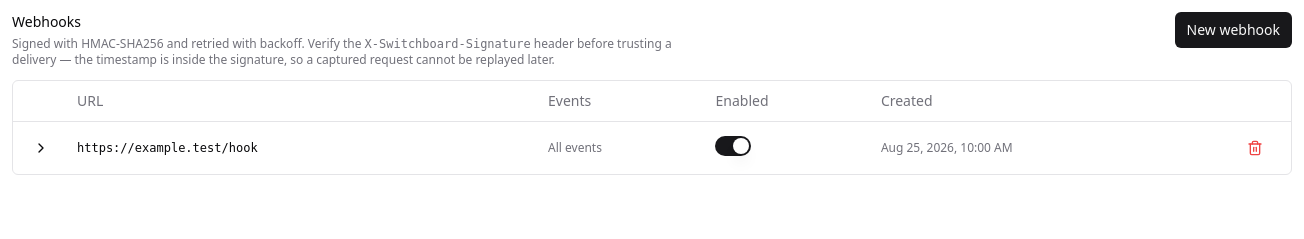
Scenario: WebhooksTab › shows a failed delivery with its status code and error
The width and height of the screenshot is (1304, 239).
Expected: the row with test id "webhook-wh-1" is shown, x1=13 y1=121 x2=1291 y2=174
Click the button with test id "expand-wh-1".
click(41, 148)  # box x1=21 y1=130 x2=61 y2=166
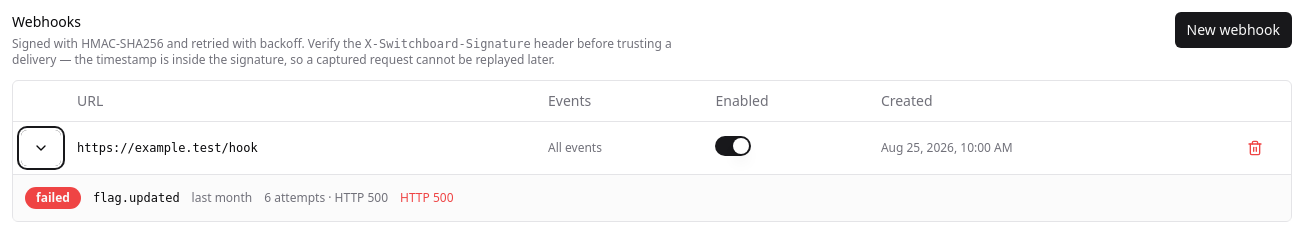
Now the text "failed" is shown, box x1=25 y1=186 x2=81 y2=208
Now the text "6 attempts · HTTP 500" is shown, box x1=264 y1=190 x2=388 y2=206
